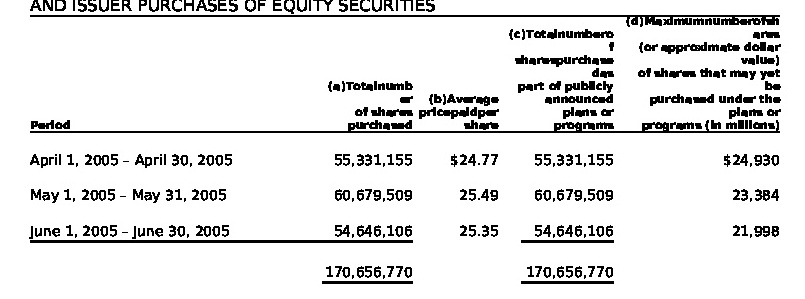table: (0, 0, 805, 299)
